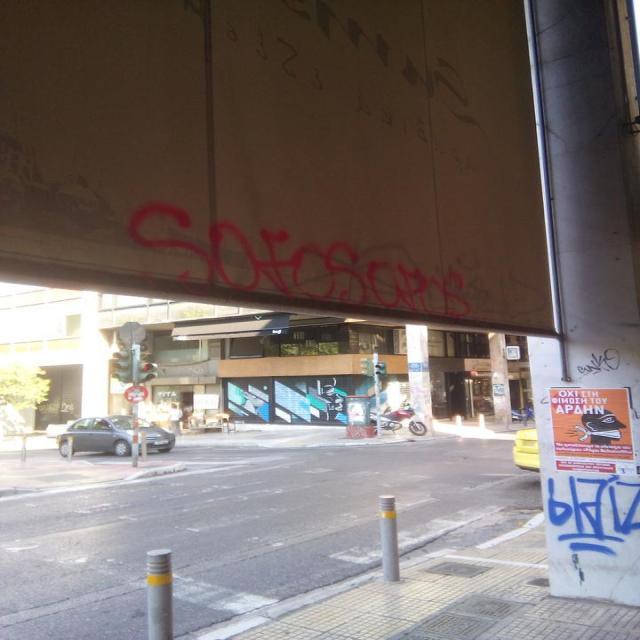nonspitting: (130, 198, 472, 318), (547, 474, 640, 556), (576, 347, 624, 375)
